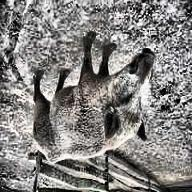boar: (24, 25, 180, 180)
